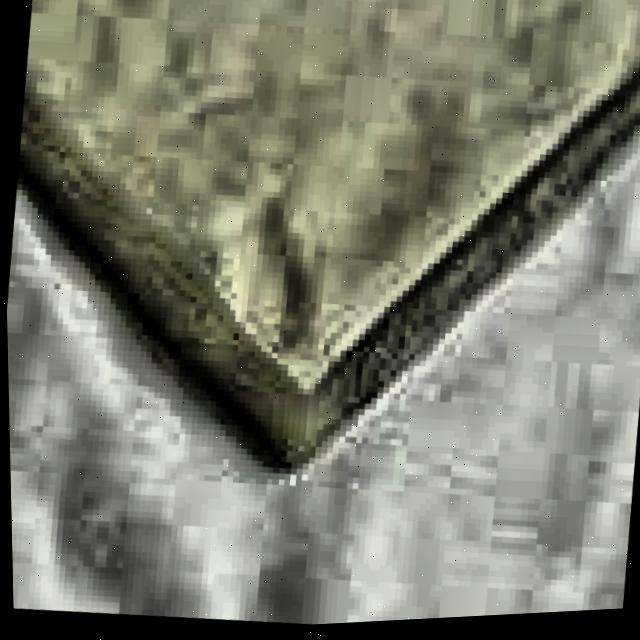paper: (17, 0, 640, 474)
